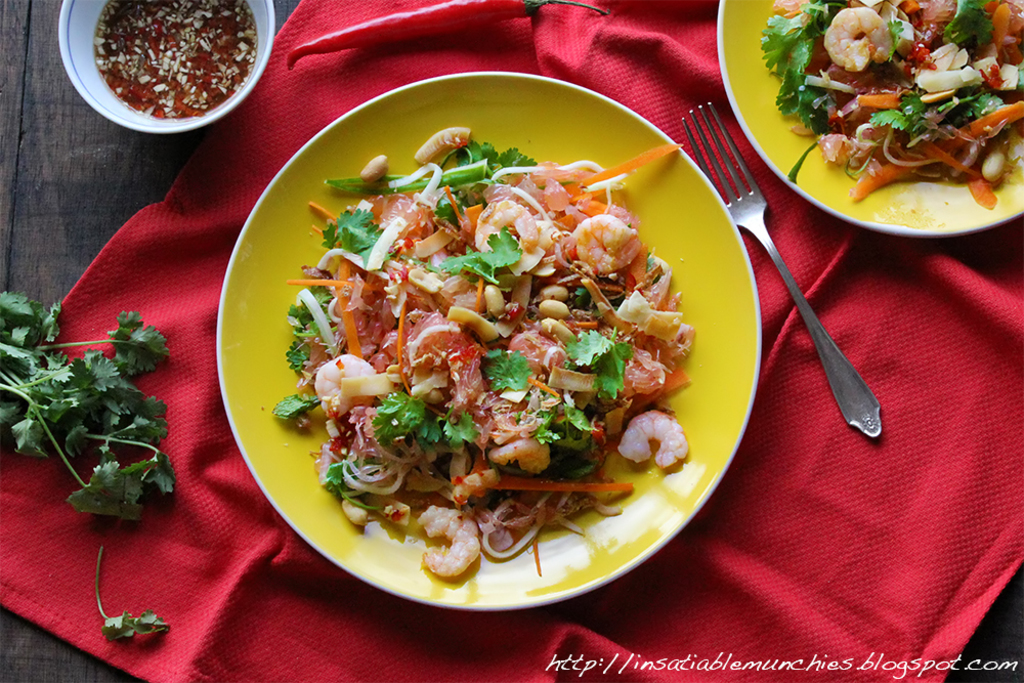salad: (263, 123, 720, 589), (754, 0, 1023, 224)
